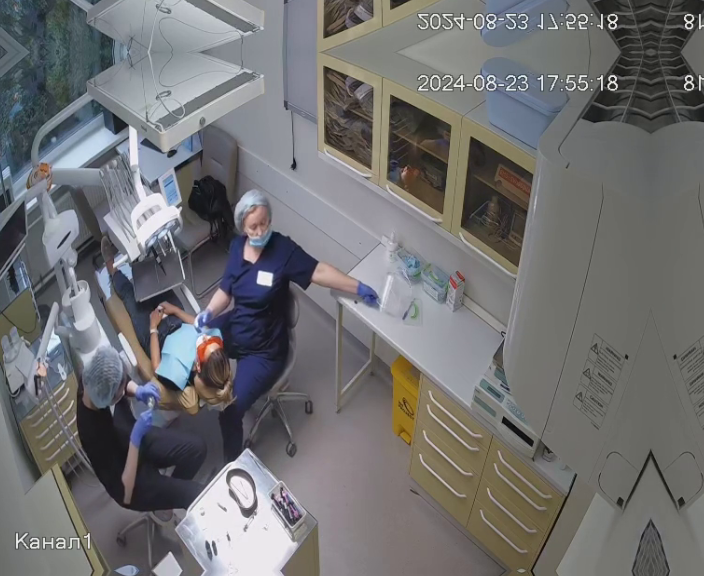Patient: (83, 231, 240, 415)
